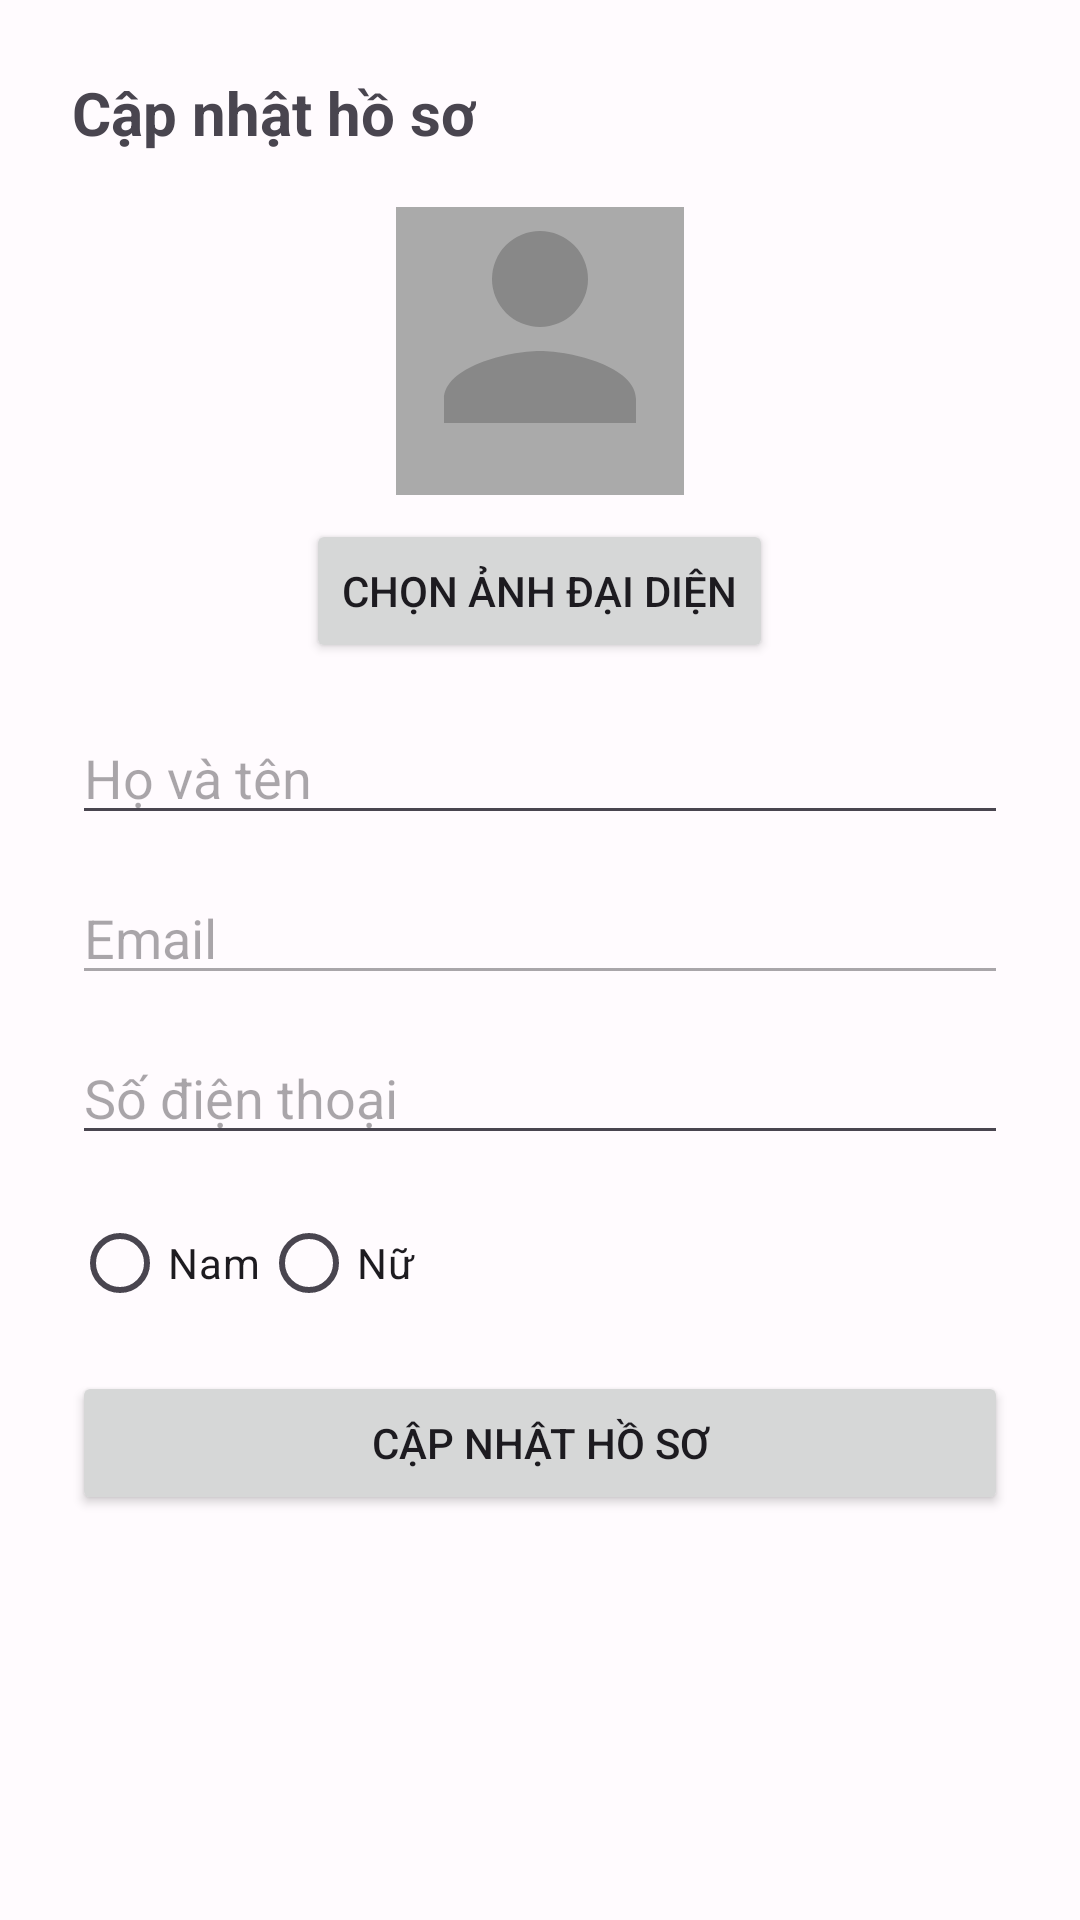

Point at icon controls on the screen. Image size 1080 x 1920, points as (x=x, y=y).
person: (x=540, y=351)
